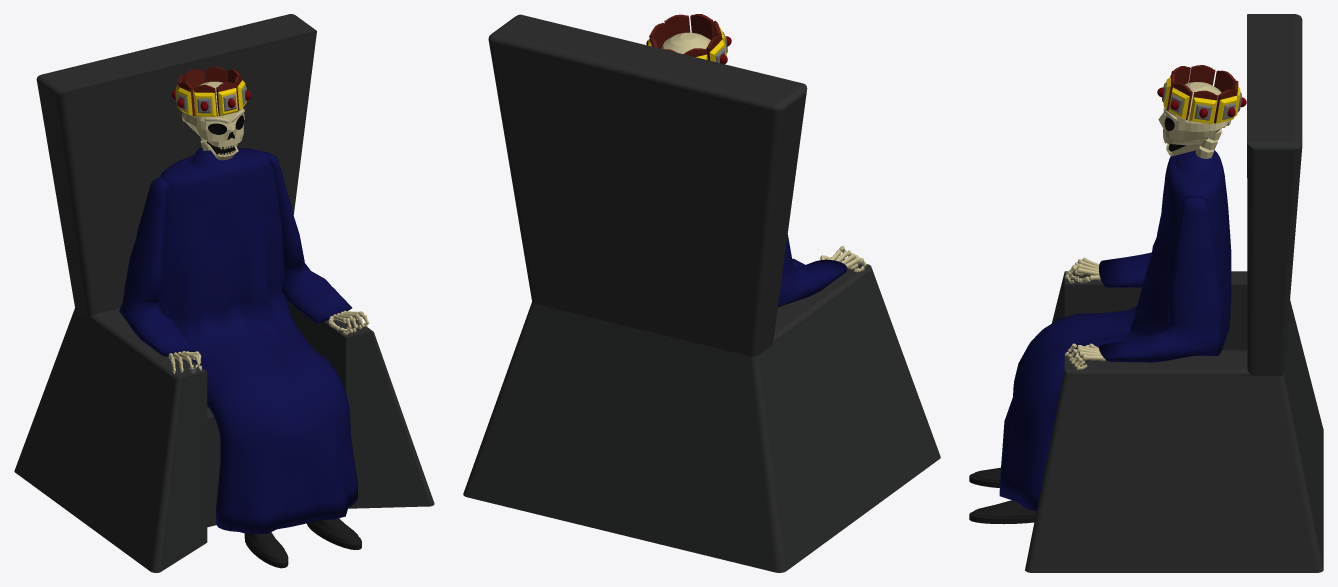
Rendered from Other_Jarls.fbx.
3 views of the same model, side by side, from view 1: azimuth 30°, elevation 25°; view 2: azimuth 150°, elevation 25°; view 3: azimuth 270°, elevation 25° (orthographic). The views are drawn at different scales.
Visible parts, largest first — view 1: Jarl Corpse; view 2: Jarl Corpse; view 3: Jarl Corpse.
Part boxes in pixels (x1=…): Jarl Corpse: x1=14, y1=14, x2=434, y2=572; Jarl Corpse: x1=463, y1=14, x2=940, y2=572; Jarl Corpse: x1=969, y1=14, x2=1323, y2=572.
Size of the model in its own units: 409 by 558 by 421.
